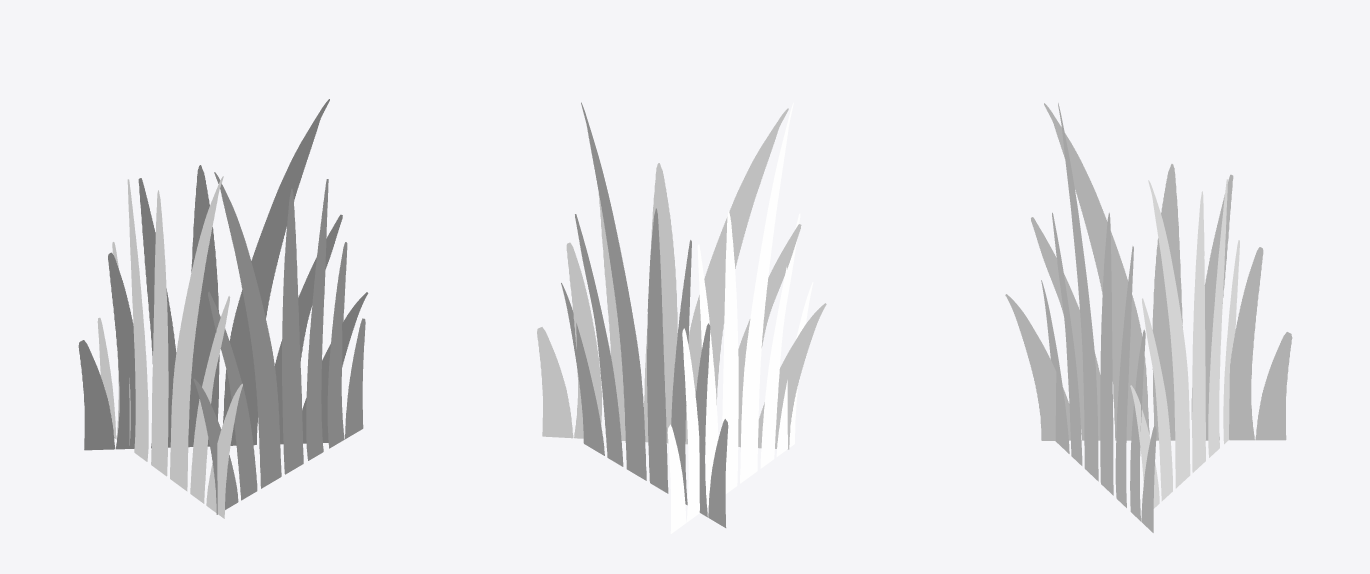
File: grass6.fbx
3 renders of one model, left to right at view 1: azimuth 30°, elevation 25°; view 2: azimuth 150°, elevation 25°; view 3: azimuth 270°, elevation 25°, orthographic.
Visible parts, largest first — view 1: Plane.001; view 2: Plane.001; view 3: Plane.001.
Part boxes in pixels (x1=…): Plane.001: x1=78, y1=99, x2=368, y2=518; Plane.001: x1=537, y1=102, x2=826, y2=533; Plane.001: x1=1005, y1=103, x2=1292, y2=532.
Bounding box in the file's own units: 92.58 × 101 × 100.
